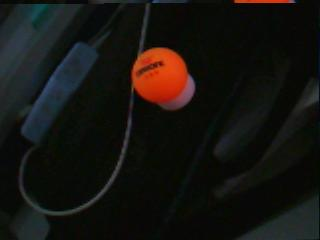oball: (132, 47, 187, 103)
